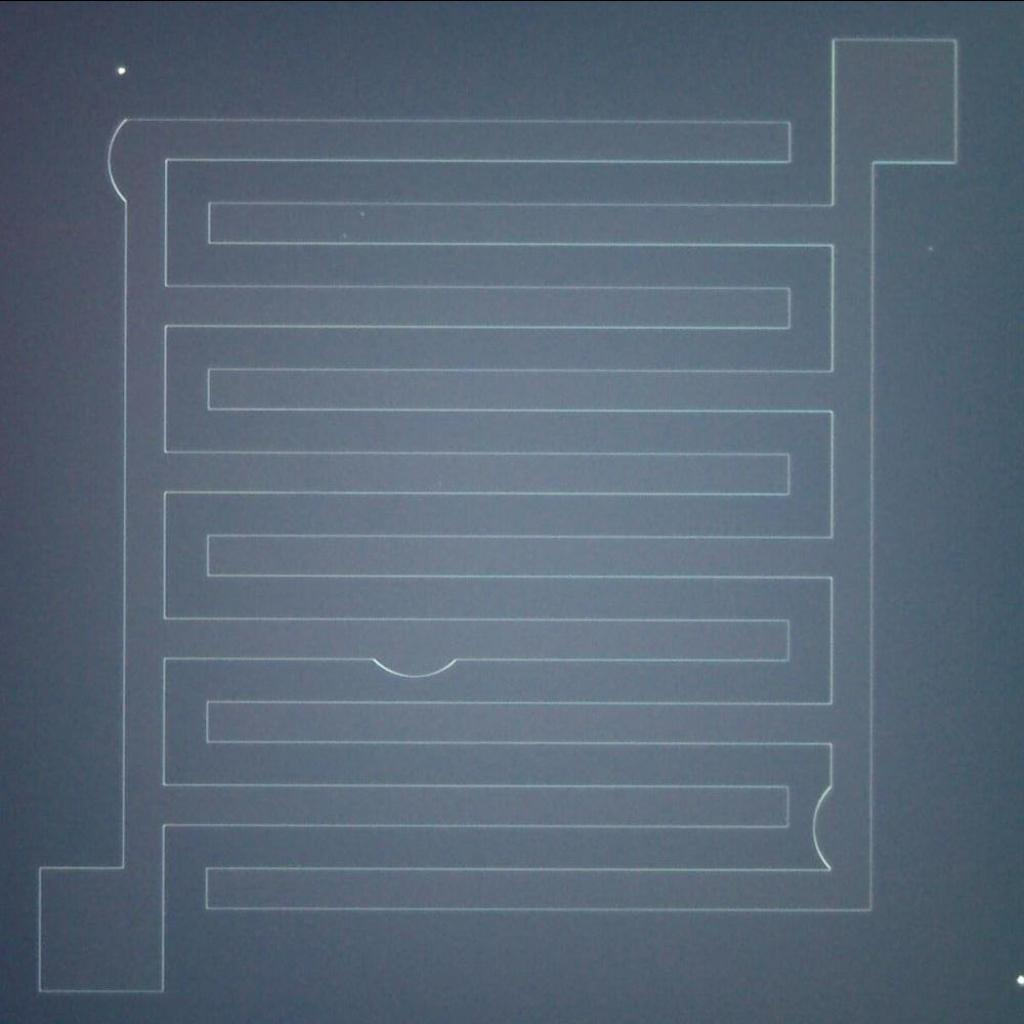curve circuit: (804, 771, 852, 876), (365, 644, 481, 682), (98, 111, 140, 208)
spot: (1005, 966, 1023, 997), (110, 58, 133, 81)
